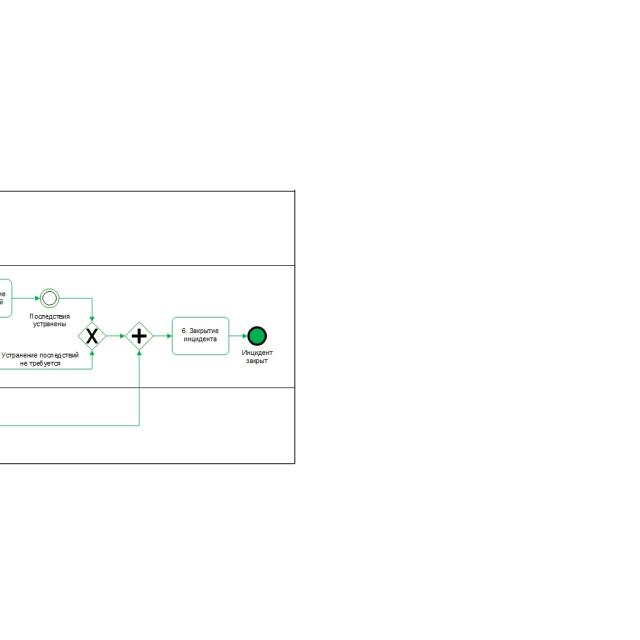arrow: (61, 296, 96, 321), (12, 296, 39, 301), (106, 333, 125, 339), (154, 333, 172, 339), (229, 333, 247, 339)
circle: (37, 285, 63, 311), (247, 327, 266, 345)
diamond: (125, 322, 154, 351), (77, 321, 106, 350)
rectangle: (172, 317, 229, 355)
text_region: (1, 350, 80, 367), (29, 313, 70, 327)
